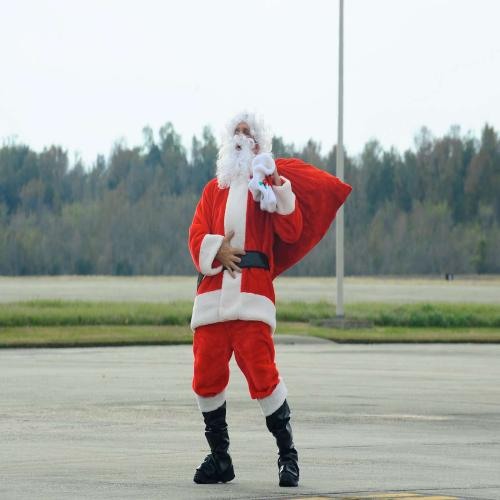Santa: (188, 109, 305, 488)
